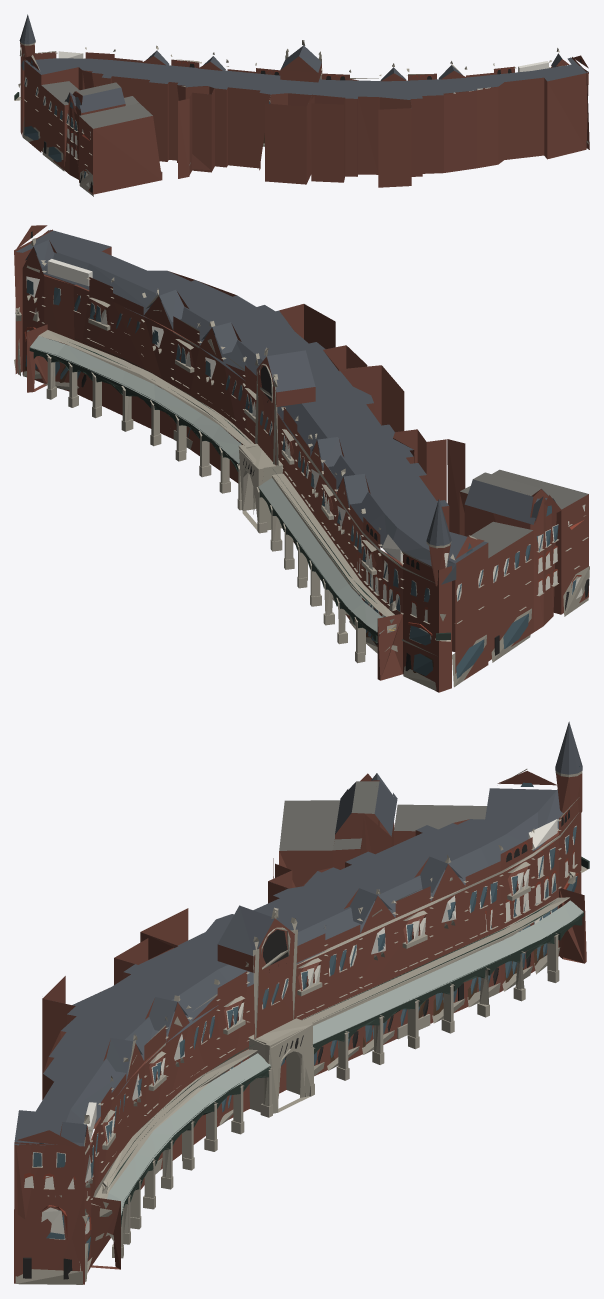
The model's file is raadhuisstraat-galerij.lod1.glb.
3 renders of one model, top to bottom at view 1: azimuth 30°, elevation 25°; view 2: azimuth 150°, elevation 25°; view 3: azimuth 270°, elevation 25°, orthographic. The views are drawn at different scales.
Parts seen in each view (by area): view 1: raadhuisstraat-galerij; view 2: raadhuisstraat-galerij; view 3: raadhuisstraat-galerij.
Boxes of the visible parts, x1,y1,x2,y2 form: raadhuisstraat-galerij: (14, 14, 589, 196); raadhuisstraat-galerij: (14, 225, 589, 692); raadhuisstraat-galerij: (14, 721, 589, 1284).
Size of the model in its own units: 102 by 27.7 by 67.95.
